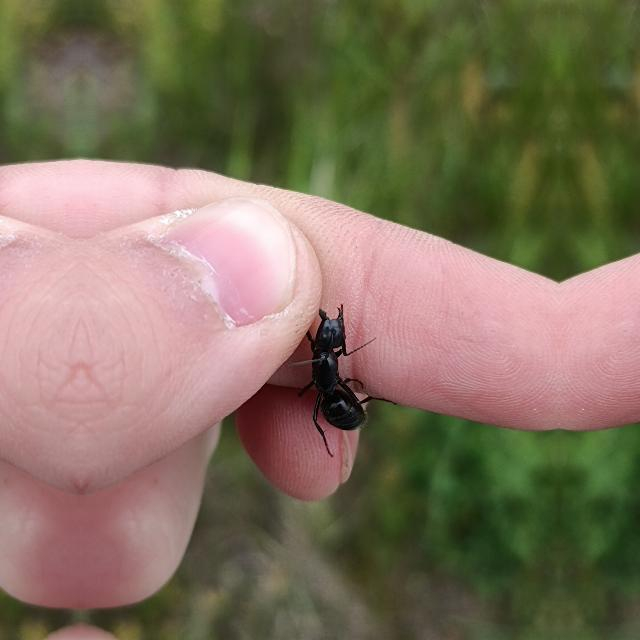Camponotus: (274, 294, 398, 456)
